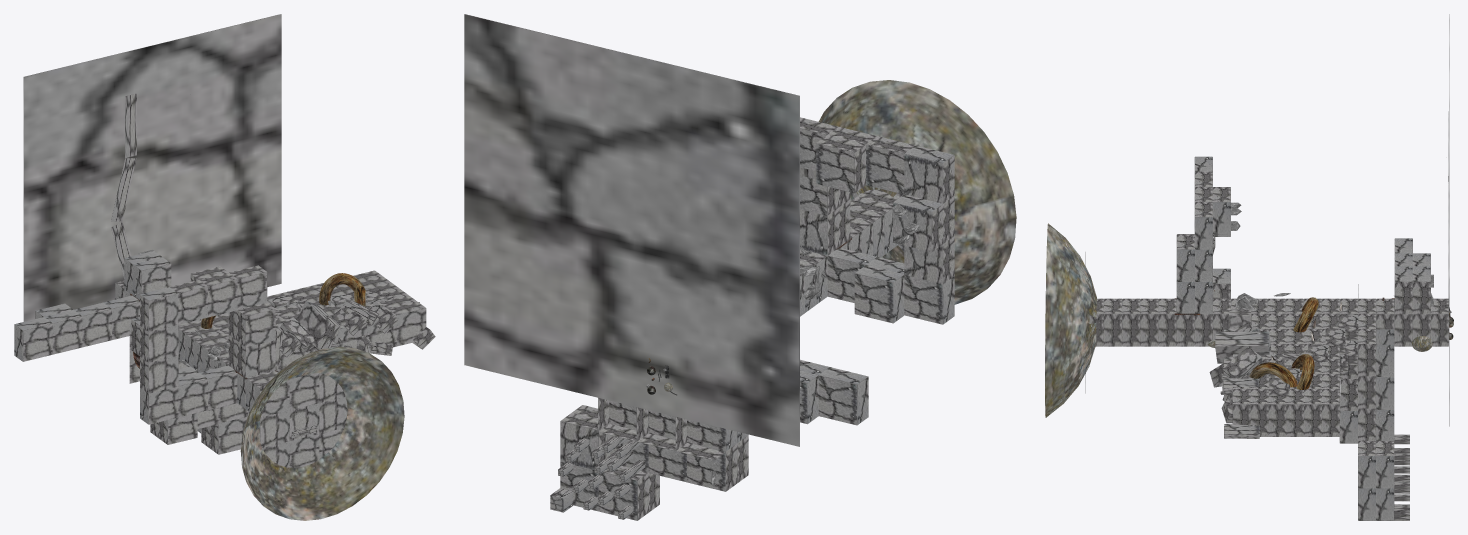
File: zombietower3.glb
The picture shows the model from 3 angles, left to right: view 1: azimuth 30°, elevation 25°; view 2: azimuth 150°, elevation 25°; view 3: azimuth 270°, elevation 25°; orthographic projection. The views are drawn at different scales.
Visible parts, largest first — view 1: Cube.1396, Sphere.023, Cube.2514, Cube.2455, Cube.2564, Cube.2565, Cube.2563, Cube.1587, Cube.2533, Cube.2532, Cube.2568, Cube.2594 (+25 smaller); view 2: Cube.1396, Sphere.023, Cube.2541, Cube.1729, Cube.2575, Cube.2550, Cube.2581, Cube.2547, Cube.2556, Cube.2256, Cube.2549, Cube.2548 (+10 smaller); view 3: Sphere.023, Cube.2514, Cube.2512, Cube.1532, Cube.2184, Cube.2399, Cube.1712, Cube.2183, Cube.1543, Cube.1483, Torus.002, Cube.1531 (+28 smaller).
Part boxes in pixels (x1,y1,x2,y2): Cube.1396: (23,14,281,321); Sphere.023: (240,346,404,520); Cube.2514: (296,301,340,348); Cube.2455: (52,316,82,354); Cube.2564: (148,293,178,331); Cube.2565: (148,325,178,362); Cube.2563: (148,355,178,393); Cube.1587: (289,373,319,409); Cube.2533: (148,386,178,424); Cube.2532: (178,379,207,417); Cube.2568: (178,286,207,324); Cube.2594: (246,309,275,347); Cube.1396: (464,14,799,446); Sphere.023: (818,80,1016,304); Cube.2541: (854,273,893,322); Cube.1729: (818,375,857,425); Cube.2575: (816,143,854,192); Cube.2550: (904,154,942,203); Cube.2581: (866,144,904,194); Cube.2547: (904,275,942,324); Cube.2556: (893,202,931,251); Cube.2256: (560,421,598,469); Cube.2549: (904,244,942,284); Cube.2548: (827,256,865,302); Sphere.023: (1045,223,1096,417); Cube.2514: (1215,331,1270,363); Cube.2512: (1223,346,1262,378); Cube.1532: (1140,314,1158,346); Cube.2184: (1376,377,1394,409); Cube.2399: (1268,404,1286,436); Cube.1712: (1412,282,1430,314); Cube.2183: (1376,344,1394,376); Cube.1543: (1158,314,1176,346); Cube.1483: (1394,314,1412,346); Torus.002: (1249,362,1297,387); Cube.1531: (1176,315,1194,346).
Bounding box in the file's own units: 2242 × 2476 × 2296.
666 materials, 666 textured.
